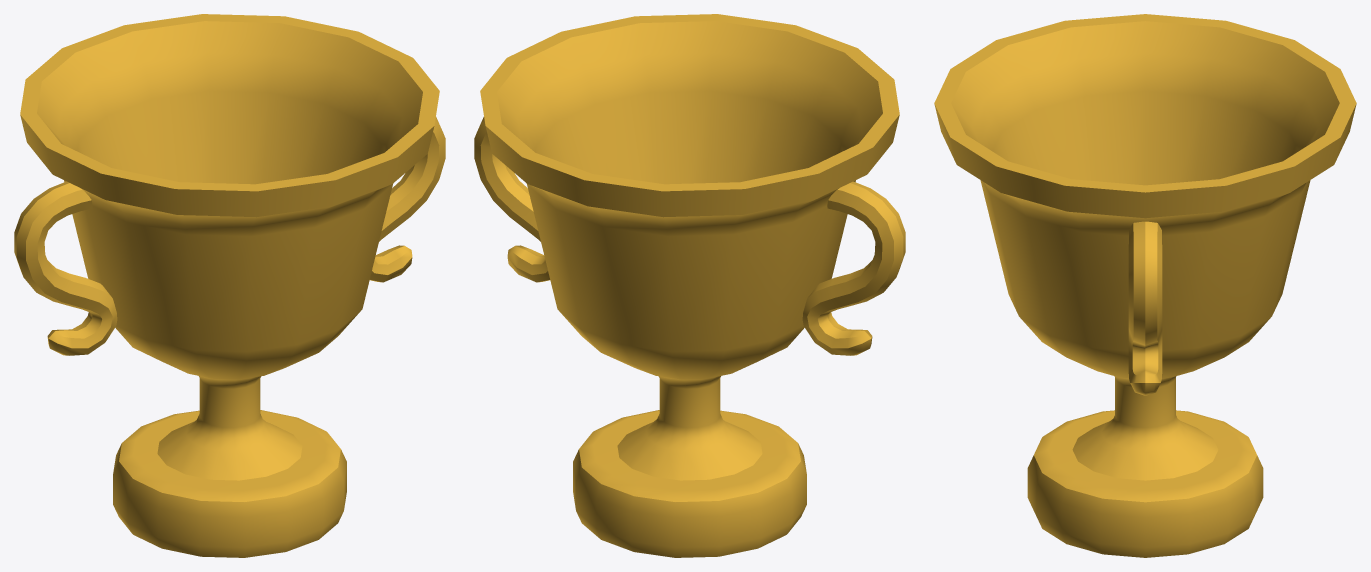
The model's file is trofeu_taca_dourada_pacote.glb.
The picture shows the model from 3 angles, left to right: view 1: azimuth 30°, elevation 25°; view 2: azimuth 150°, elevation 25°; view 3: azimuth 270°, elevation 25°; orthographic projection.
Parts seen in each view (by area): view 1: trofeu_taca_dourada_pacote; view 2: trofeu_taca_dourada_pacote; view 3: trofeu_taca_dourada_pacote.
Part boxes in pixels (x1=…): trofeu_taca_dourada_pacote: x1=14, y1=14, x2=445, y2=557; trofeu_taca_dourada_pacote: x1=474, y1=14, x2=905, y2=557; trofeu_taca_dourada_pacote: x1=934, y1=14, x2=1356, y2=557.
Size of the model in its own units: 0.3381 by 0.3133 by 0.2906.
Materials: 1 (1 with a texture image).
